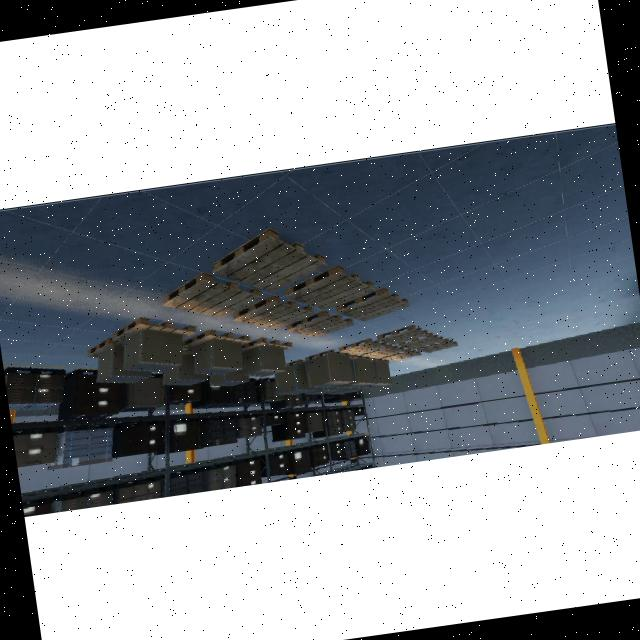wooden_pallet: (163, 271, 265, 318), (285, 265, 376, 310), (233, 294, 315, 330), (336, 288, 410, 321), (112, 316, 197, 341), (285, 310, 355, 338), (182, 330, 251, 350), (242, 336, 293, 352)
